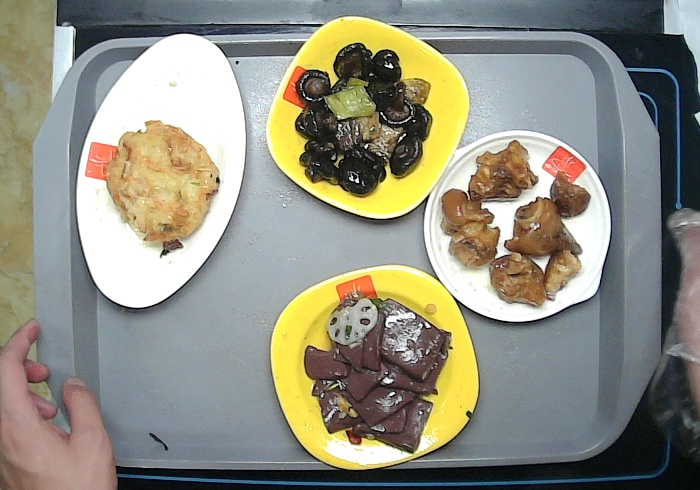SHKJ-Bao_Yu_Pan: (420, 126, 614, 327)
SHKJ-Huang_Se_Cai_Die: (263, 12, 473, 221)
SHKJ-Huang_Se_Si_Fang_Cai_Die: (265, 262, 484, 472)
SHKJ-Yu_Pan: (73, 31, 249, 312)
